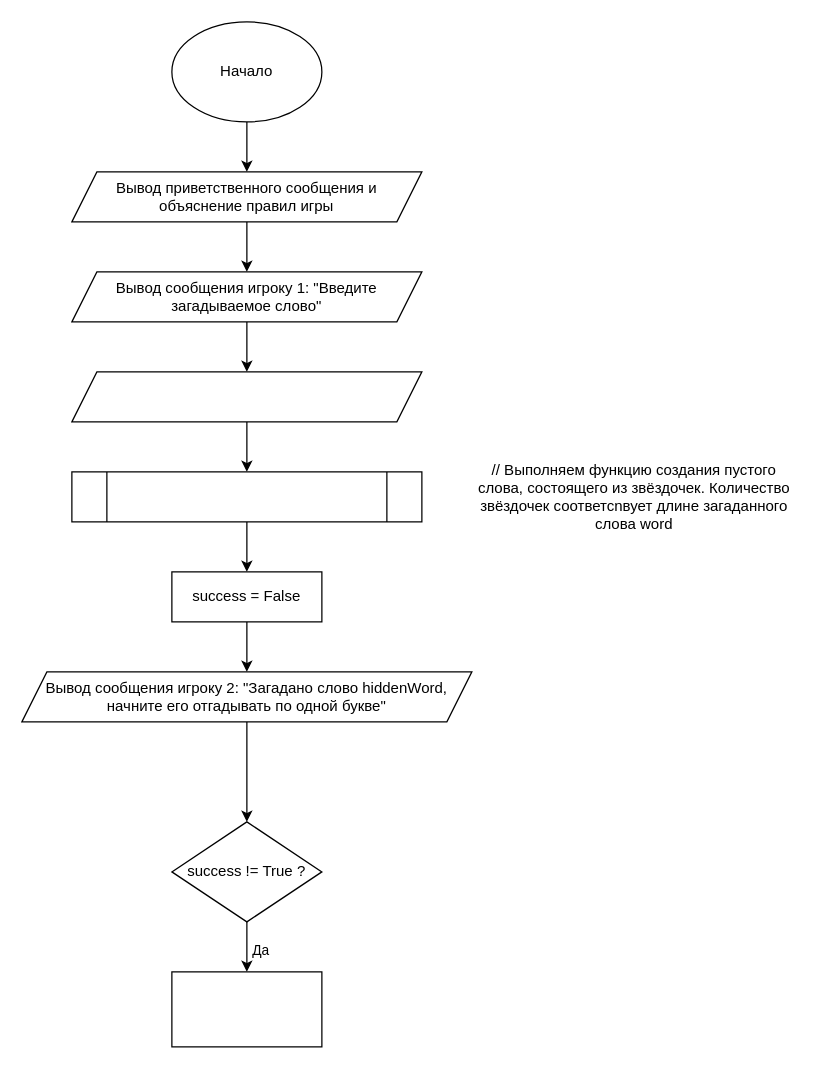
The diagram is 819 pixels wide and 1069 high, and some of its shapes have lost their labels. Here are the shapes that lost their labels. From the top down, the centre of each, then its label:
At (246,396): "Игрок 1 вводит загадываемое слово word".
At (246,496): "hiddenWord = createHiddenWordBlank()".
At (246,1009): "Тело цикла".
